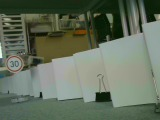speed_30: (4, 55, 24, 75)
